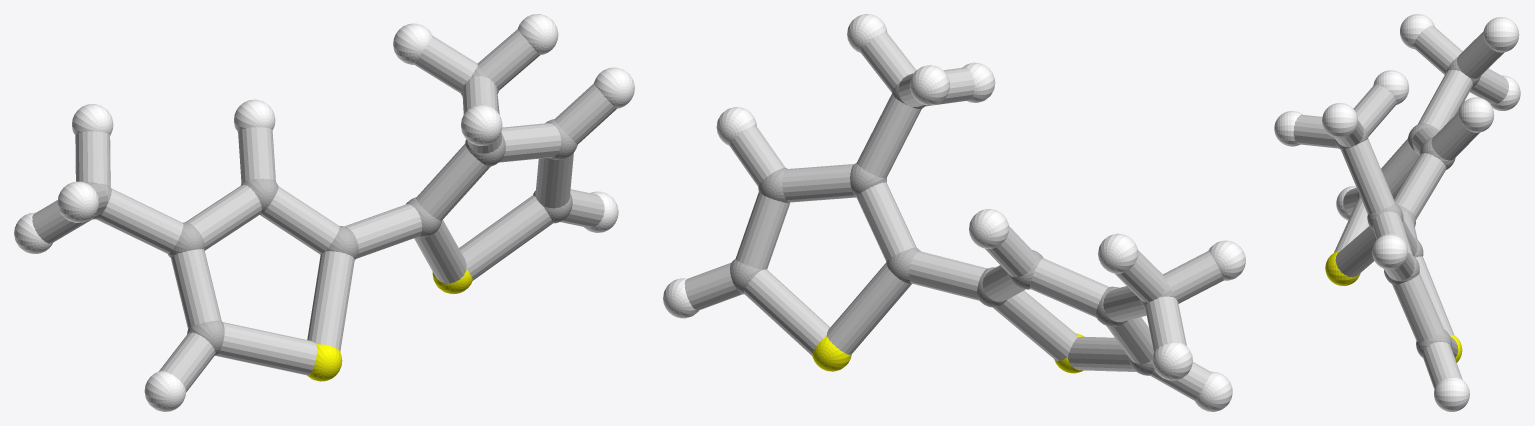
File: Methylthiophene_Phi_5_Theta_240_Methylthiophene.glb
3 views of the same model, side by side, from view 1: azimuth 30°, elevation 25°; view 2: azimuth 150°, elevation 25°; view 3: azimuth 270°, elevation 25° (orthographic). The views are drawn at different scales.
Parts seen in each view (by area): view 1: grp7965, grp3621, grp1, grp7241; view 2: grp7965, grp3621, grp1, grp7241; view 3: grp7965, grp3621, grp1, grp7241.
Boxes of the visible parts, bbox=[...] form: grp7965: bbox=[32, 29, 616, 392]; grp3621: bbox=[14, 14, 634, 411]; grp1: bbox=[90, 66, 577, 355]; grp7241: bbox=[307, 270, 472, 381]; grp7965: bbox=[684, 32, 1223, 400]; grp3621: bbox=[663, 14, 1245, 411]; grp1: bbox=[730, 82, 1174, 375]; grp7241: bbox=[812, 333, 1083, 373]; grp7965: bbox=[1293, 26, 1508, 389]; grp3621: bbox=[1274, 14, 1520, 411]; grp1: bbox=[1335, 57, 1480, 357]; grp7241: bbox=[1325, 250, 1462, 362].
Bounding box in the file's own units: 9.57 × 5 × 4.1.
